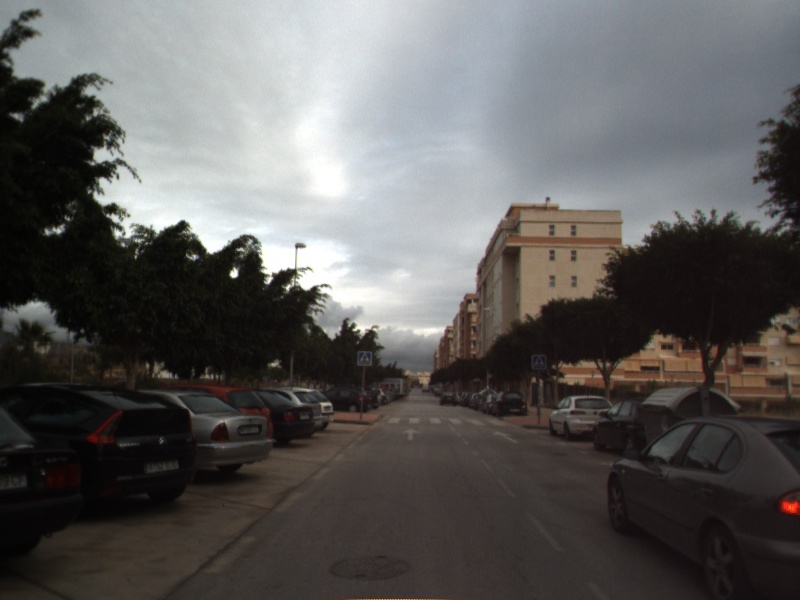STRAIGHT: (492, 429, 520, 445), (400, 427, 423, 442)
